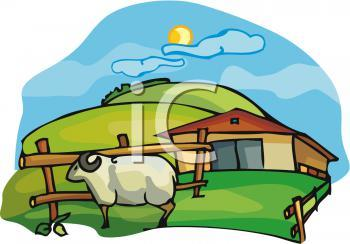sheep: (58, 148, 185, 230)
